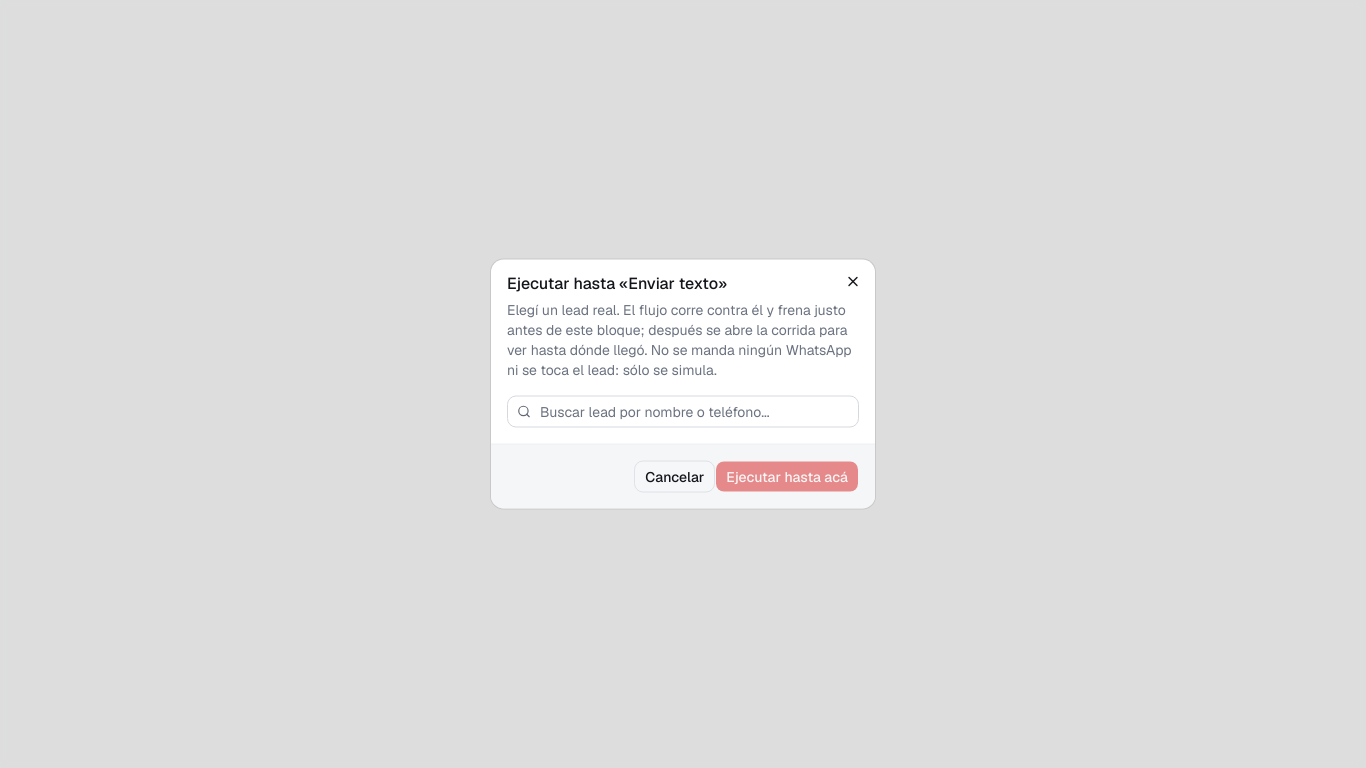
Test: Ejecutar hasta acá › si la acción falla, lo dice y no navega
Type "lead" into the field with placeholder "Buscar lead por nombre o teléfono..." at point(683, 412), box [507,396,859,428]
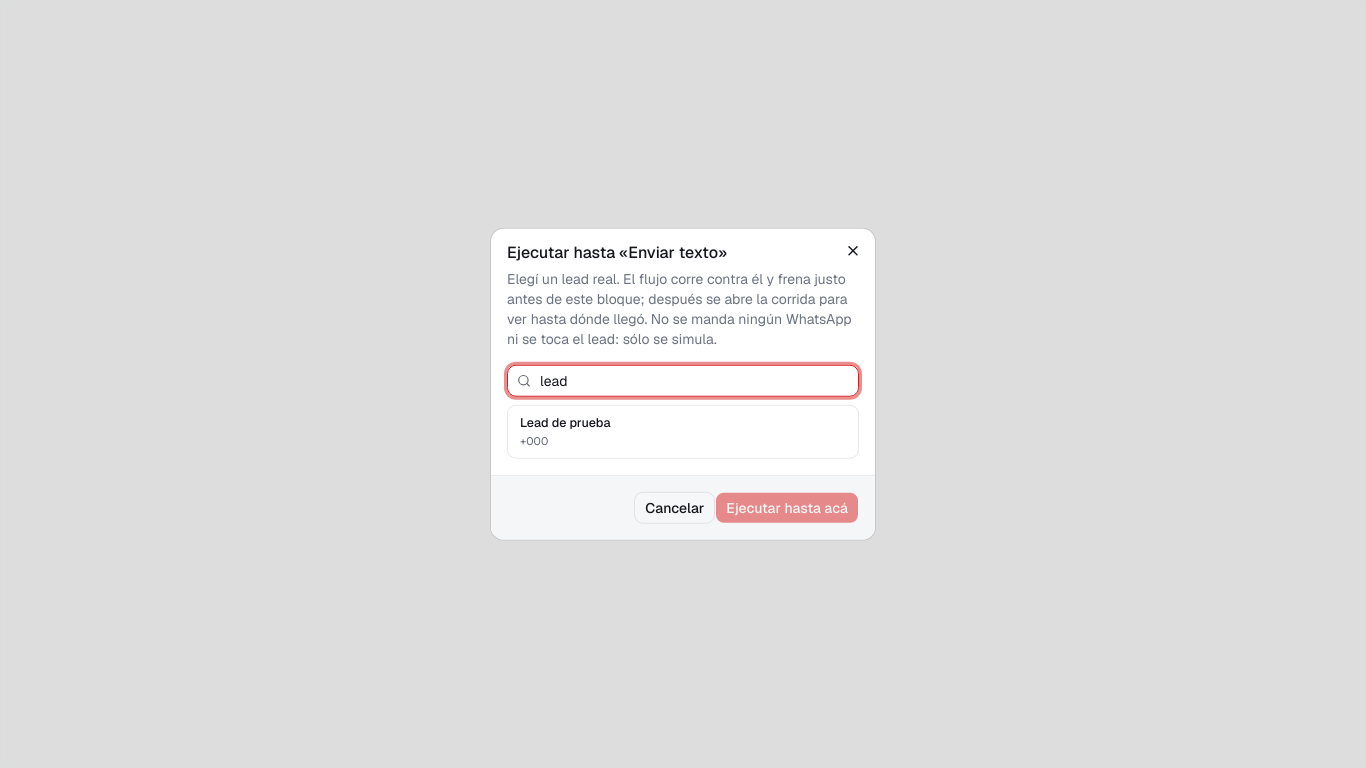
Click the button "Lead de prueba +000" at point(565, 422), box [508,406,858,457]
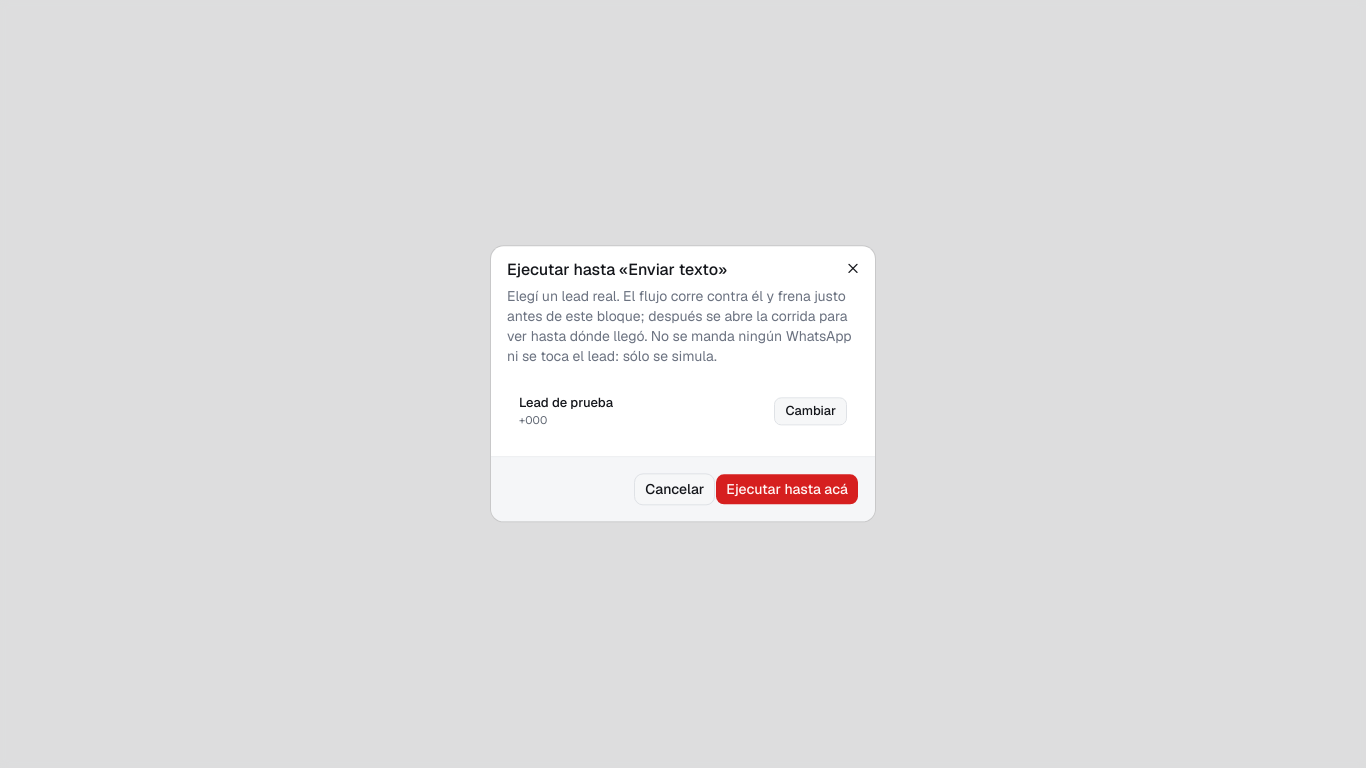
Click the button "Ejecutar hasta acá" at point(787, 490), box [715,474,859,506]
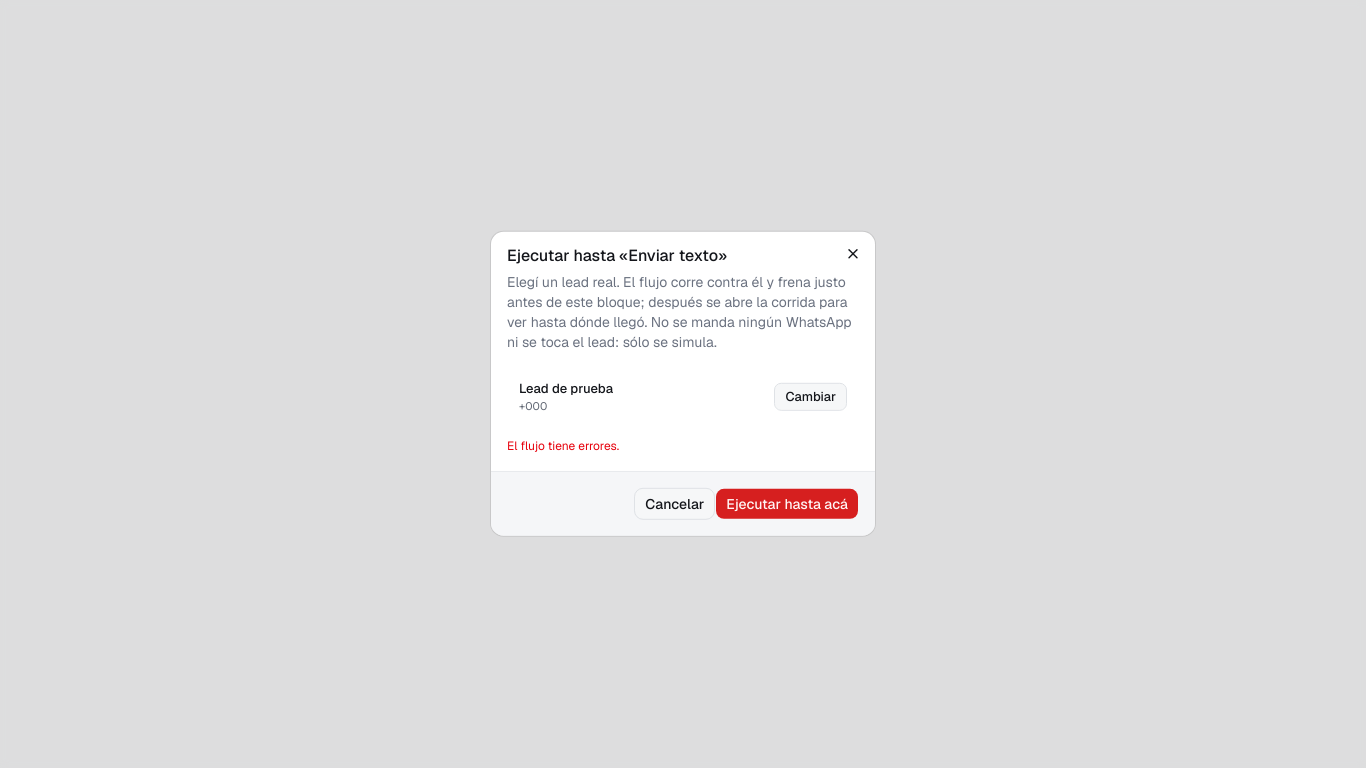
Expected: the text "El flujo tiene errores." is shown, [507,438,619,454]
